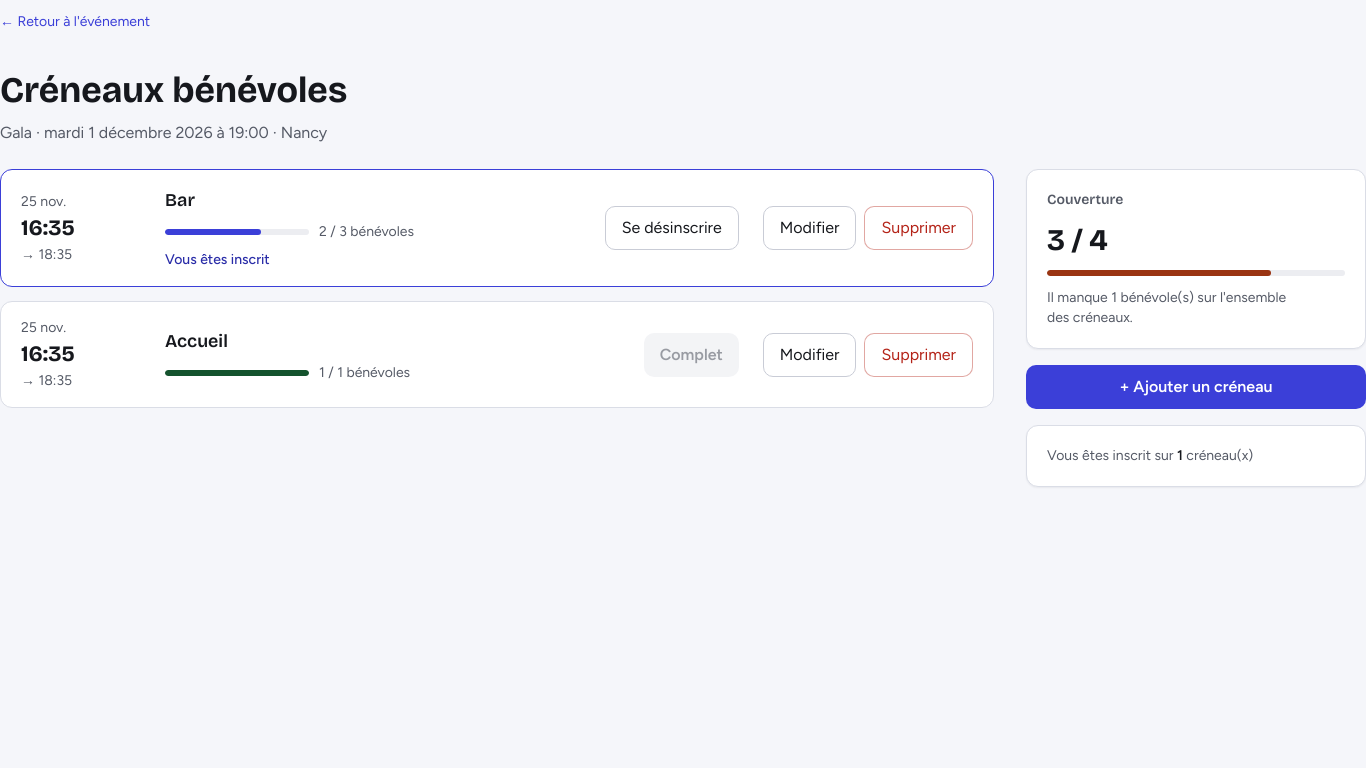
it: VolunteerShiftsPage as organizer › shows the API refusal on a deletion
Click the button with aria-label "Supprimer Bar".
click(919, 228)  # box [864,206,973,250]
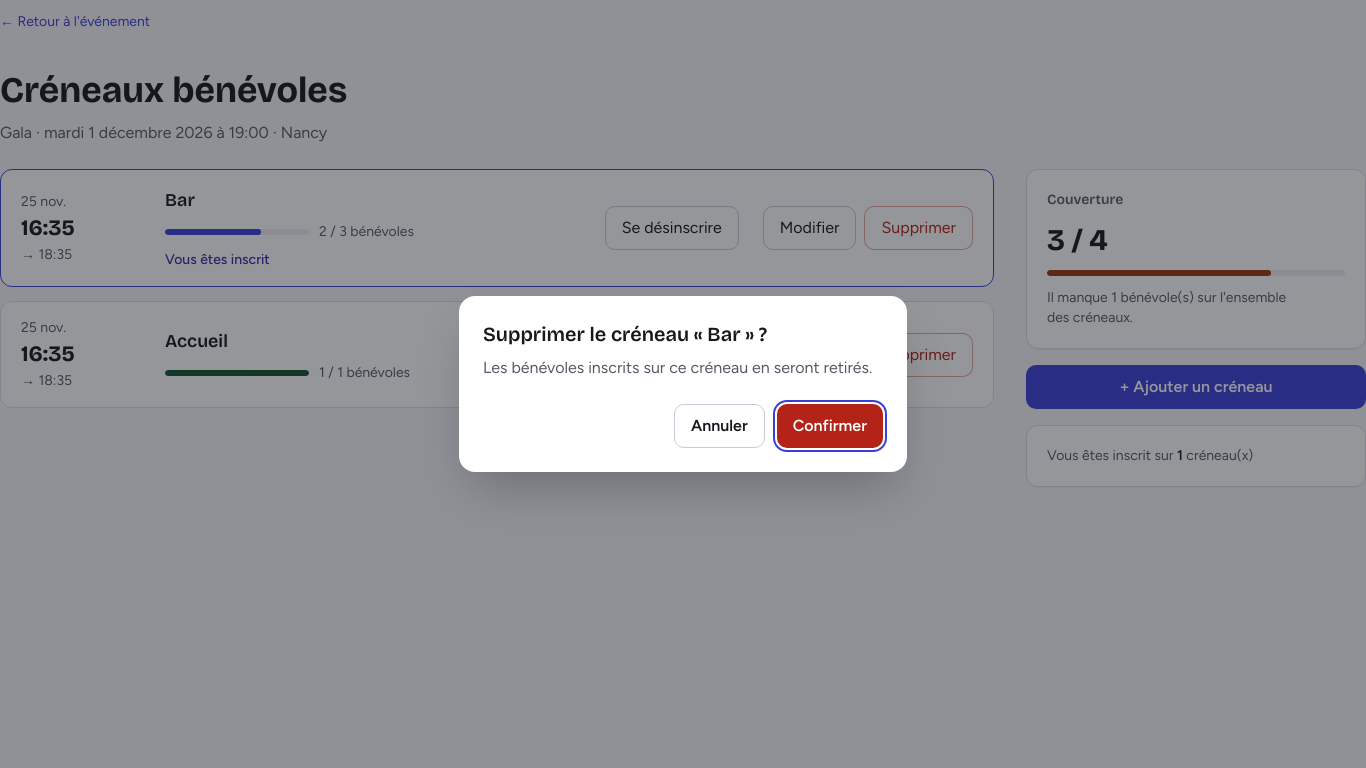
Click the button "Confirmer".
click(830, 426)  # box [777,404,883,448]
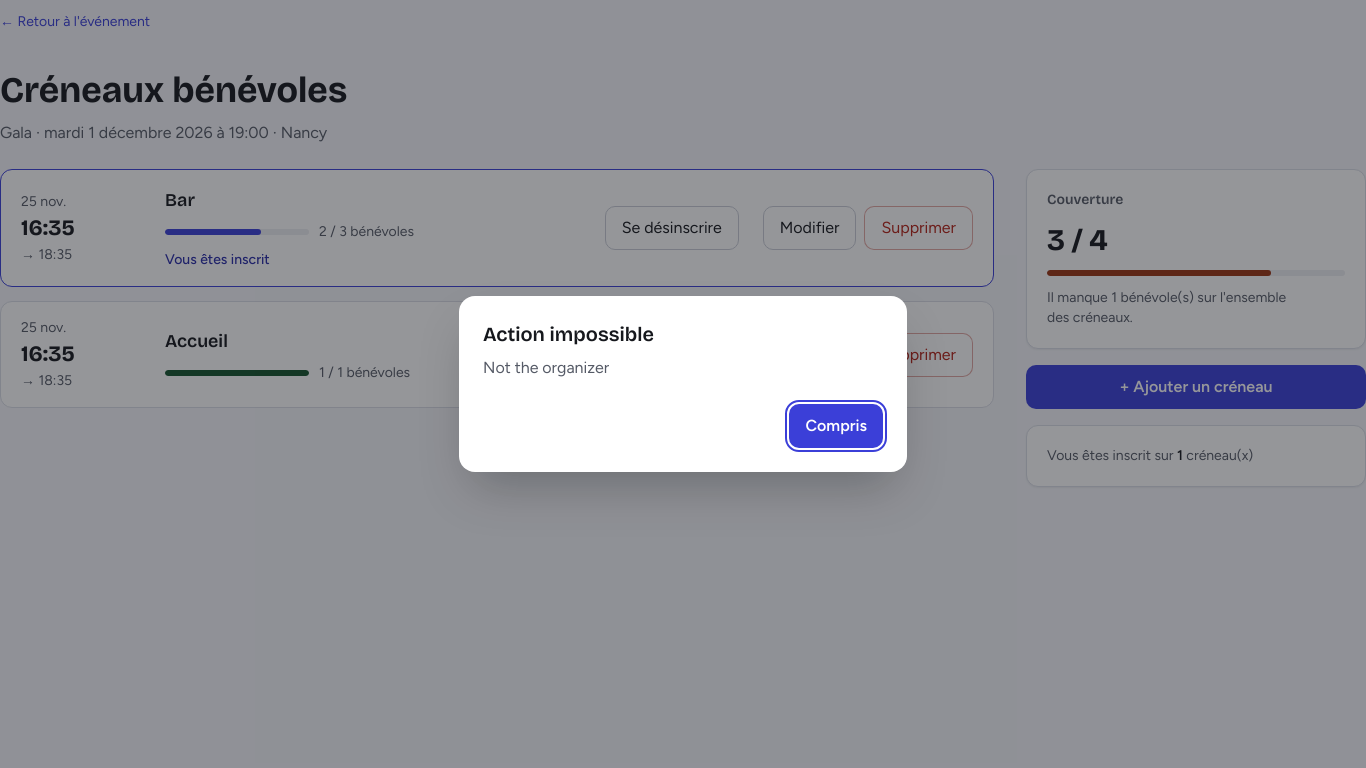
Expected: the dialog shows "Not the organizer", [483,358,609,377]
